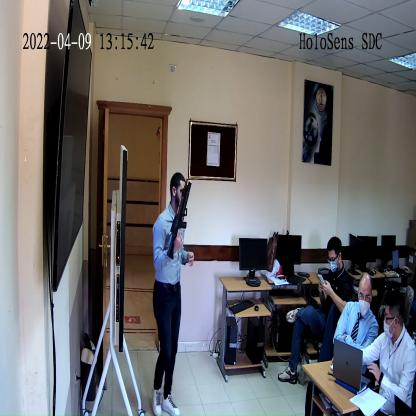handgun: (166, 184, 193, 259)
